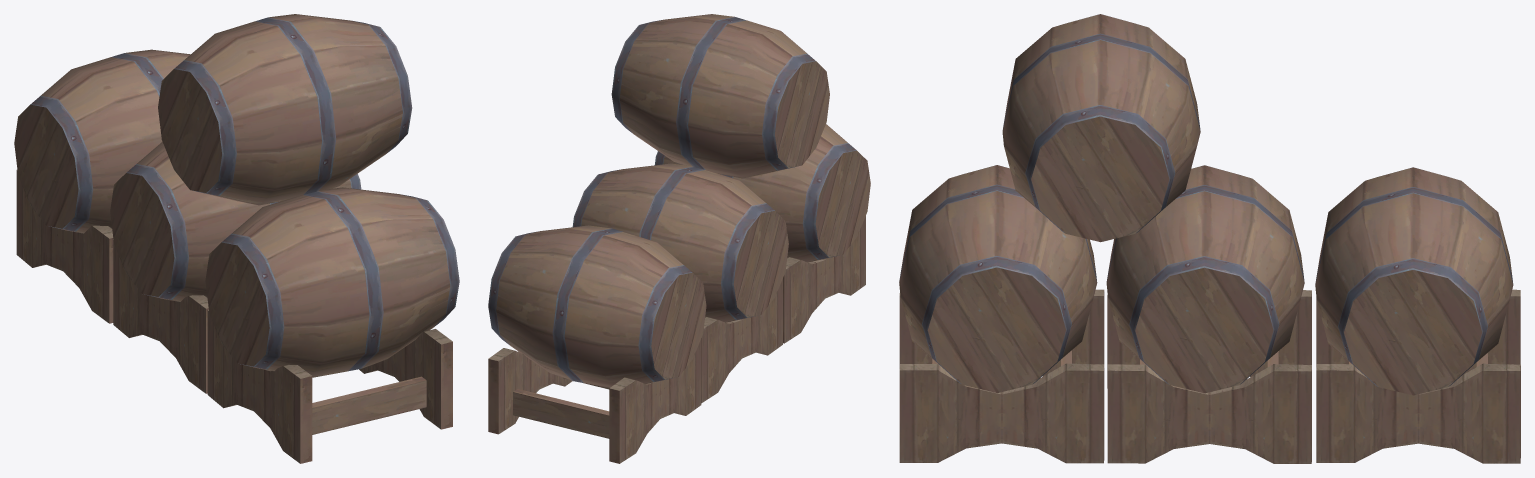
Rendered from Homeworld_Exterior_Md_Decoration_Junk_02_Lod0.fbx.
3 renders of one model, left to right at view 1: azimuth 30°, elevation 25°; view 2: azimuth 150°, elevation 25°; view 3: azimuth 270°, elevation 25°, orthographic. The views are drawn at different scales.
Visible parts, largest first — view 1: Homeworld_Exterior_Md_Decoration_Junk_02_Lod0; view 2: Homeworld_Exterior_Md_Decoration_Junk_02_Lod0; view 3: Homeworld_Exterior_Md_Decoration_Junk_02_Lod0.
Part boxes in pixels (left/top/right/bottom): Homeworld_Exterior_Md_Decoration_Junk_02_Lod0: left=14, top=14, right=459, bottom=463; Homeworld_Exterior_Md_Decoration_Junk_02_Lod0: left=488, top=14, right=870, bottom=463; Homeworld_Exterior_Md_Decoration_Junk_02_Lod0: left=899, top=14, right=1520, bottom=463.
Size of the model in its own units: 1.13 by 2.01 by 2.93.
